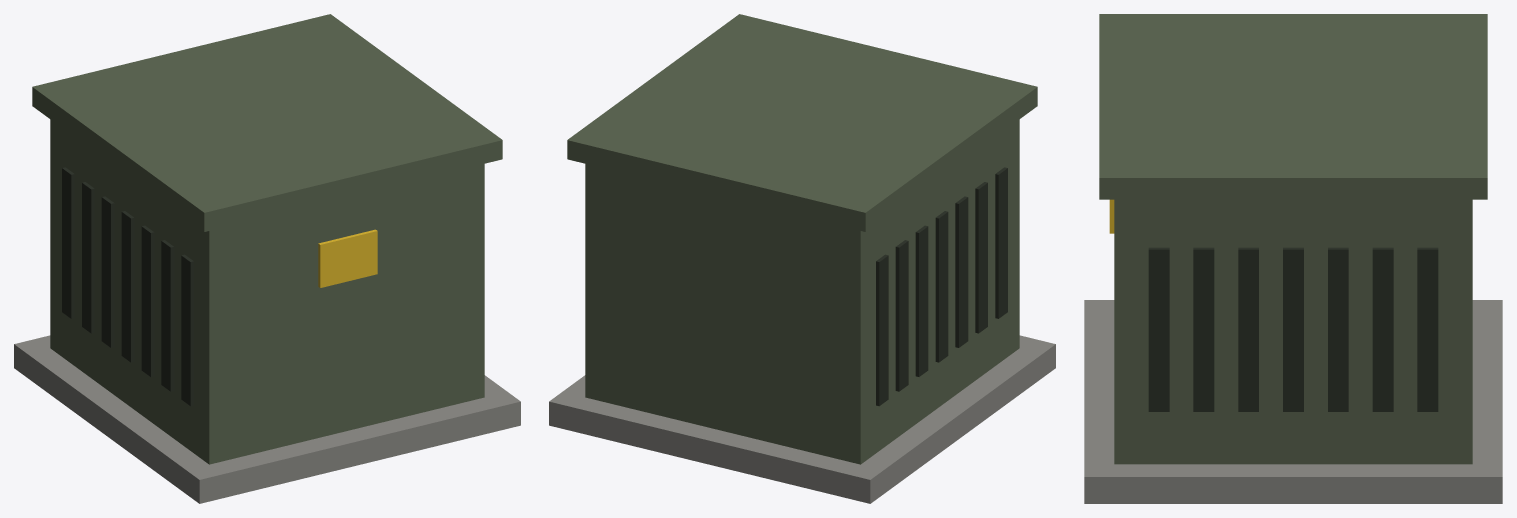
File: transformer_box.glb
The picture shows the model from 3 angles, left to right: view 1: azimuth 30°, elevation 25°; view 2: azimuth 150°, elevation 25°; view 3: azimuth 270°, elevation 25°; orthographic projection. The views are drawn at different scales.
Visible parts, largest first — view 1: transformer_box; view 2: transformer_box; view 3: transformer_box.
Part boxes in pixels (bbox=[...]): transformer_box: bbox=[14, 14, 520, 503]; transformer_box: bbox=[549, 14, 1055, 503]; transformer_box: bbox=[1084, 14, 1502, 503].
Size of the model in its own units: 1.4 by 1.18 by 1.4.
